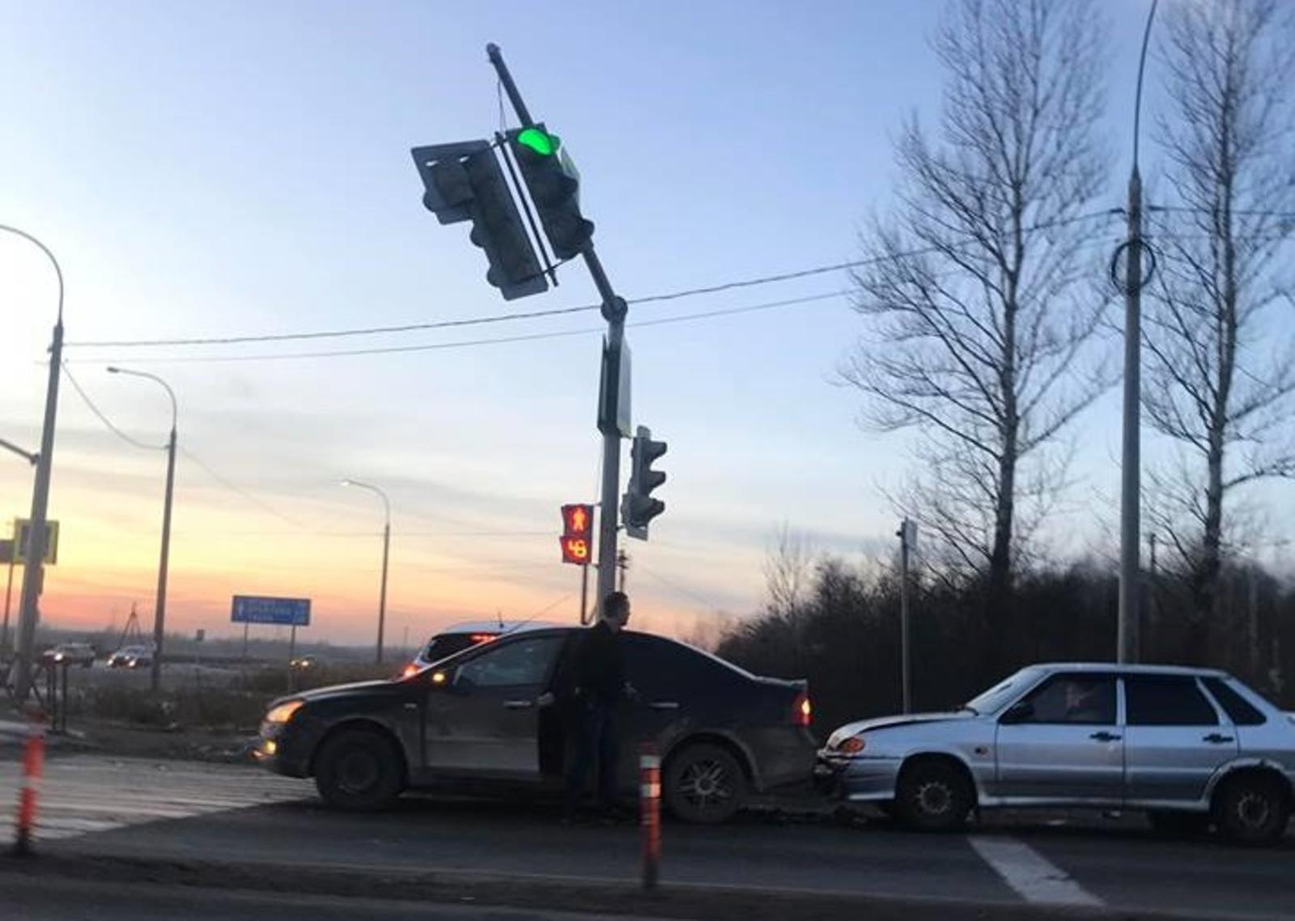off traffic light: (414, 142, 547, 301), (632, 438, 667, 525)
traffic light: (503, 122, 593, 261), (558, 504, 592, 563)
